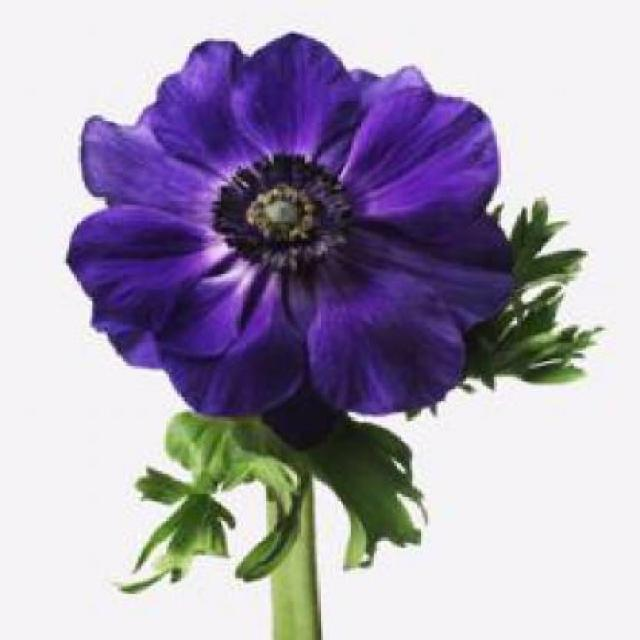Flower: (66, 33, 517, 418), (210, 154, 353, 274)
